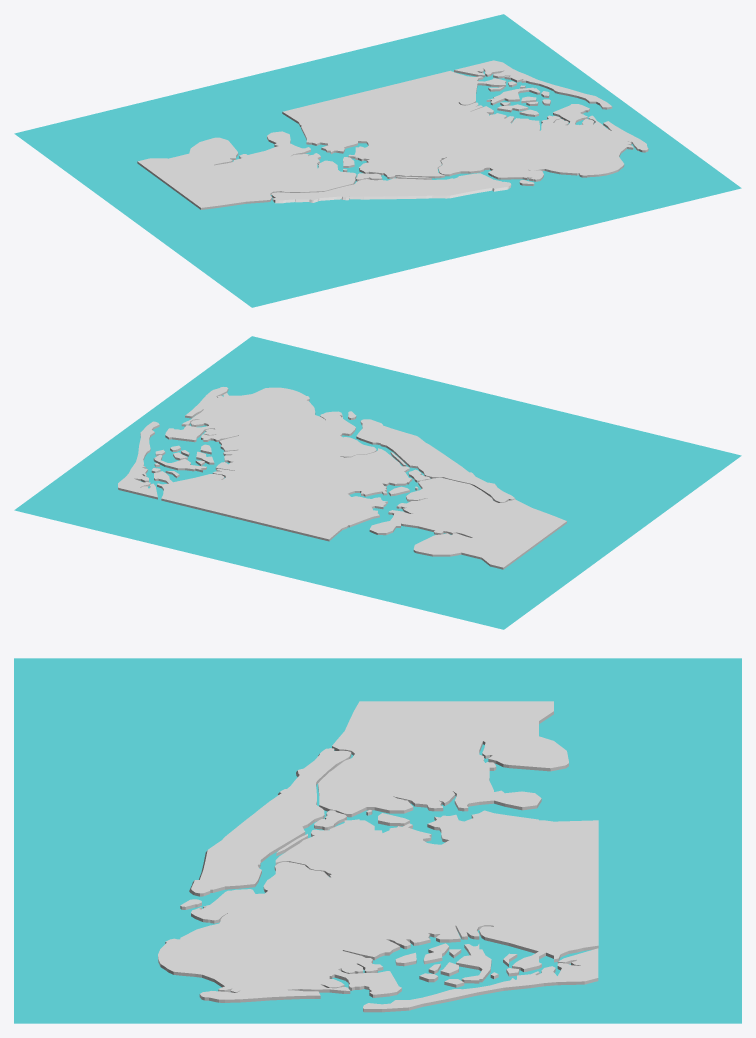
Rendered from subway_map_JUST_MAP_1.glb.
3 renders of one model, top to bottom at view 1: azimuth 30°, elevation 25°; view 2: azimuth 150°, elevation 25°; view 3: azimuth 270°, elevation 25°, orthographic. The views are drawn at different scales.
Visible parts, largest first — view 1: Plane, BK_QUEENS, BRONX, MANHATTAN, ROCKAWAY, BROAD_CHANNEL; view 2: Plane, BK_QUEENS, BRONX, MANHATTAN, ROCKAWAY, BROAD_CHANNEL; view 3: Plane, BK_QUEENS, BRONX, MANHATTAN, ROCKAWAY, BROAD_CHANNEL.
Boxes of the visible parts, x1,y1,x2,y2 form: Plane: (14,14,741,307); BK_QUEENS: (282,70,648,181); BRONX: (137,131,356,209); MANHATTAN: (271,173,511,203); ROCKAWAY: (454,60,612,109); BROAD_CHANNEL: (486,81,550,116); Plane: (14,336,741,629); BK_QUEENS: (154,387,412,541); BRONX: (369,477,566,569); MANHATTAN: (356,419,515,502); ROCKAWAY: (118,421,159,499); BROAD_CHANNEL: (151,444,214,478); Plane: (14,658,741,1023); BK_QUEENS: (158,810,598,1002); BRONX: (318,701,568,817); MANHATTAN: (189,748,351,896); ROCKAWAY: (363,948,598,1012); BROAD_CHANNEL: (395,943,519,987).
Bounding box in the file's own units: 119 × 0.9433 × 100.
